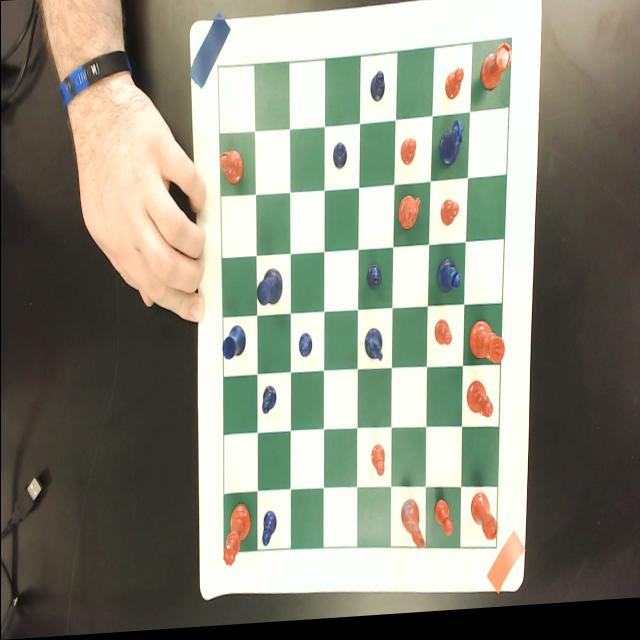B: (436, 262, 461, 299)
K: (256, 270, 282, 310)
N: (438, 120, 464, 175), (362, 329, 383, 371)
P: (260, 512, 276, 550), (368, 73, 384, 108), (260, 388, 276, 418), (332, 144, 346, 175), (297, 335, 312, 362), (366, 268, 381, 295)
R: (222, 326, 246, 363)
b: (466, 382, 494, 427), (215, 147, 244, 190)
cb: (217, 46, 512, 556)
k: (468, 323, 504, 371)
n: (400, 502, 424, 557), (397, 196, 421, 237)
p: (432, 503, 452, 544), (444, 71, 464, 108), (438, 202, 458, 232), (432, 324, 452, 353), (370, 447, 386, 482), (399, 142, 416, 173)
q: (222, 505, 250, 570)
r: (480, 43, 510, 97), (470, 495, 497, 549)
